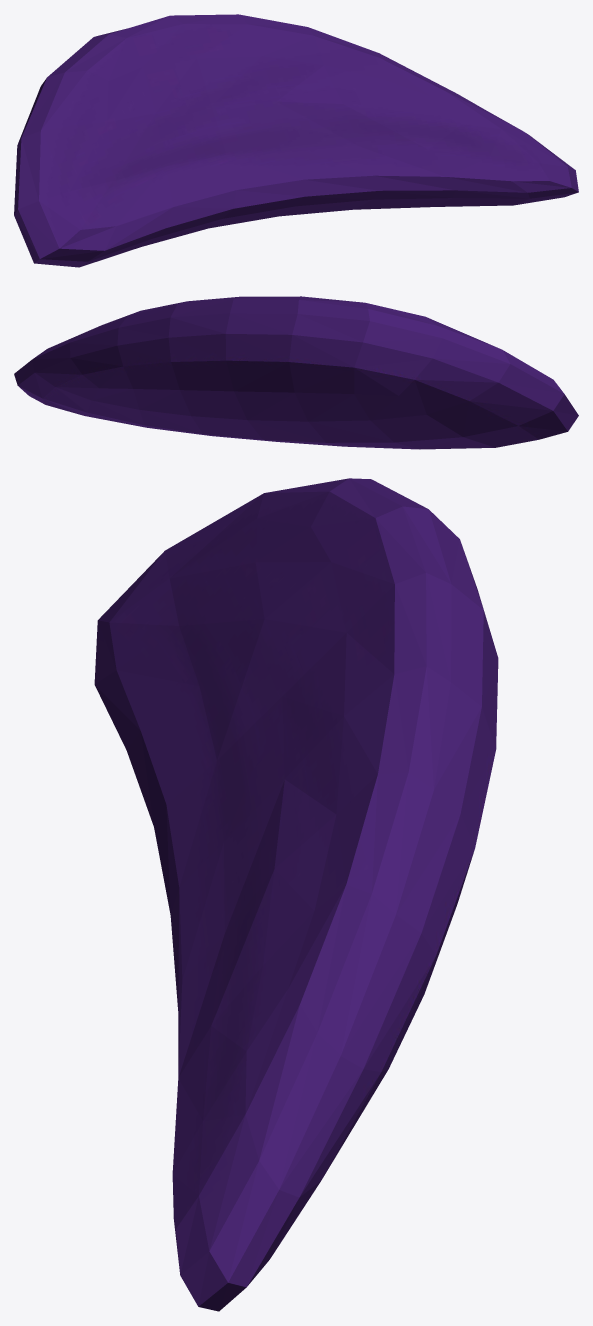
File: SubTool-28-10354335.OBJ
3 renders of one model, top to bottom at view 1: azimuth 30°, elevation 25°; view 2: azimuth 150°, elevation 25°; view 3: azimuth 270°, elevation 25°, orthographic. The views are drawn at different scales.
Visible parts, largest first — view 1: Group5; view 2: Group5; view 3: Group5.
Boxes of the visible parts, box(x1,y1,x2,y2) form: Group5: box(14, 14, 578, 267); Group5: box(14, 296, 578, 449); Group5: box(94, 478, 498, 1311).
Bounding box in the file's own units: 1.79 × 0.6819 × 0.5811.
1 material, 1 textured.
